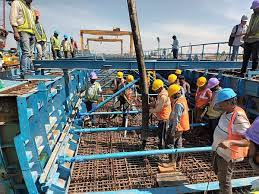arm: (234, 111, 259, 143), (26, 5, 45, 41), (8, 1, 20, 41), (172, 100, 185, 131), (194, 86, 210, 111), (150, 91, 167, 114)
face: (217, 98, 233, 111)
footwear: (216, 179, 237, 193)
glove: (11, 28, 20, 40)
helmet: (213, 85, 237, 103), (168, 82, 183, 95), (151, 77, 164, 90), (195, 74, 207, 86), (208, 75, 220, 87), (167, 72, 178, 83), (115, 69, 125, 78), (174, 67, 184, 75), (250, 1, 258, 10), (239, 13, 248, 21)
human: (209, 84, 250, 193), (4, 1, 44, 75), (147, 75, 171, 142), (167, 80, 192, 143), (247, 87, 259, 192), (226, 13, 250, 61), (192, 73, 212, 122), (168, 33, 180, 58)
leg: (208, 152, 237, 194), (240, 150, 259, 194), (15, 31, 33, 77), (230, 44, 240, 61)
noglove: (216, 137, 231, 151)
nohelmet: (24, 1, 33, 3)
novest: (8, 1, 39, 34), (246, 13, 258, 43), (233, 22, 248, 45)
vest: (217, 106, 250, 157), (9, 1, 39, 34), (171, 95, 190, 130), (154, 89, 170, 119), (194, 85, 211, 110), (246, 12, 259, 41), (251, 110, 259, 151), (170, 37, 178, 49)
